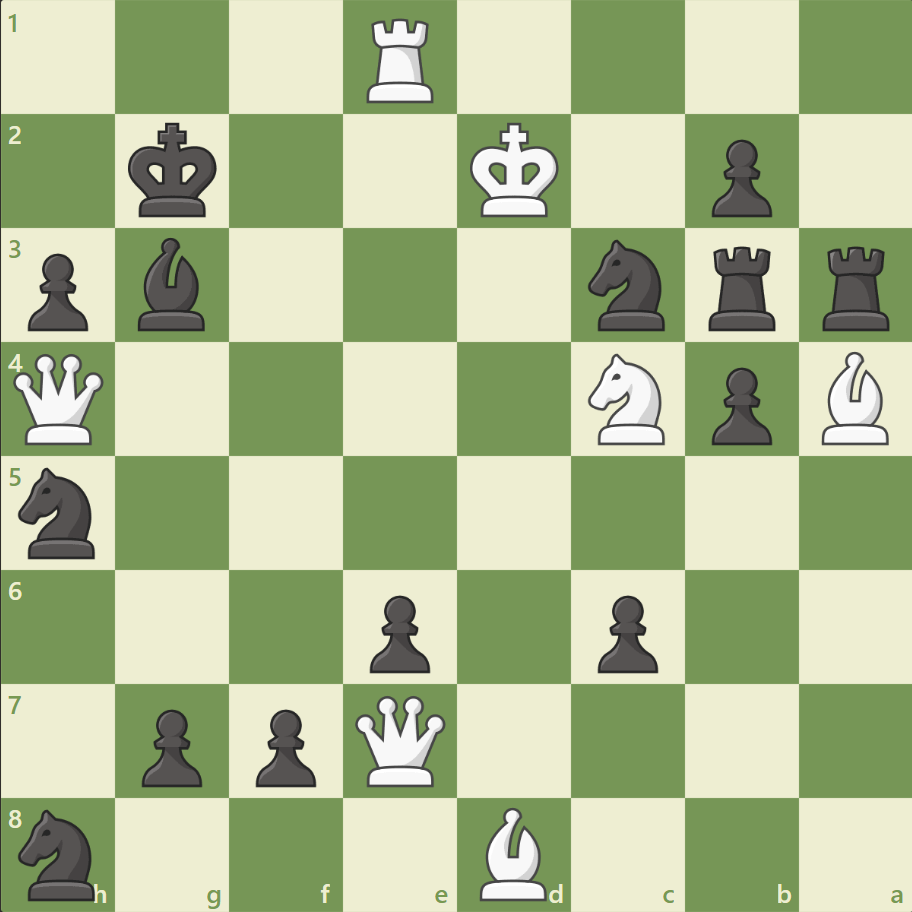B: (471, 801, 555, 904), (812, 347, 896, 449)
K: (465, 117, 565, 225)
N: (579, 348, 676, 450)
Q: (10, 349, 109, 449), (351, 690, 450, 789)
R: (360, 12, 442, 109)
b: (131, 233, 215, 336)
k: (124, 117, 224, 225)
n: (11, 461, 108, 564), (579, 234, 676, 337), (11, 802, 108, 904)
p: (247, 700, 322, 791), (133, 700, 208, 791), (701, 359, 776, 450), (20, 246, 95, 337), (701, 132, 776, 223), (588, 586, 662, 677), (361, 586, 435, 677)
r: (814, 239, 897, 336), (700, 239, 783, 336)
